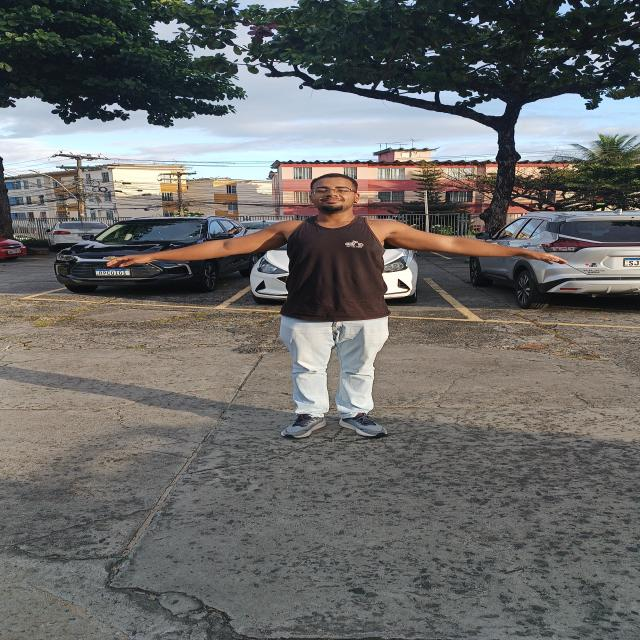takeoff: (109, 174, 567, 438)
